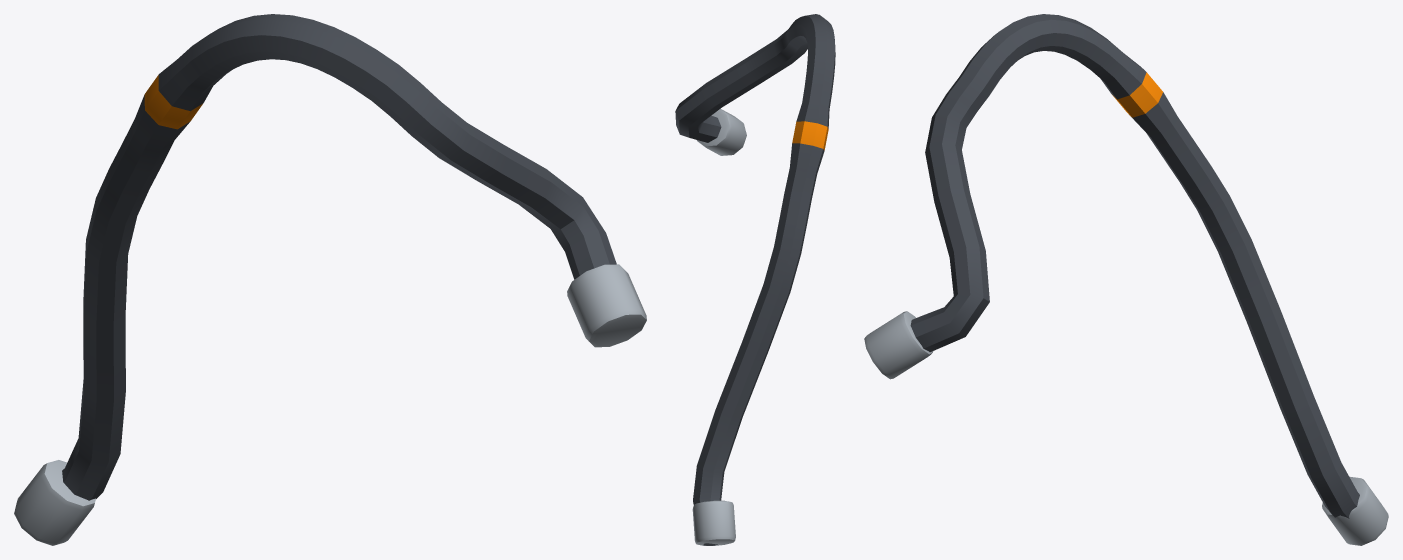
The model's file is eva_umbilical.glb.
3 views of the same model, side by side, from view 1: azimuth 30°, elevation 25°; view 2: azimuth 150°, elevation 25°; view 3: azimuth 270°, elevation 25° (orthographic). The views are drawn at different scales.
Parts seen in each view (by area): view 1: Eva_Umbilical; view 2: Eva_Umbilical; view 3: Eva_Umbilical.
Boxes of the visible parts, <box> form: Eva_Umbilical: <box>14,14,646,545</box>; Eva_Umbilical: <box>675,14,835,545</box>; Eva_Umbilical: <box>864,14,1388,545</box>.
Size of the model in its own units: 0.3195 by 0.578 by 0.5112.
Materials: 1 (1 with a texture image).
